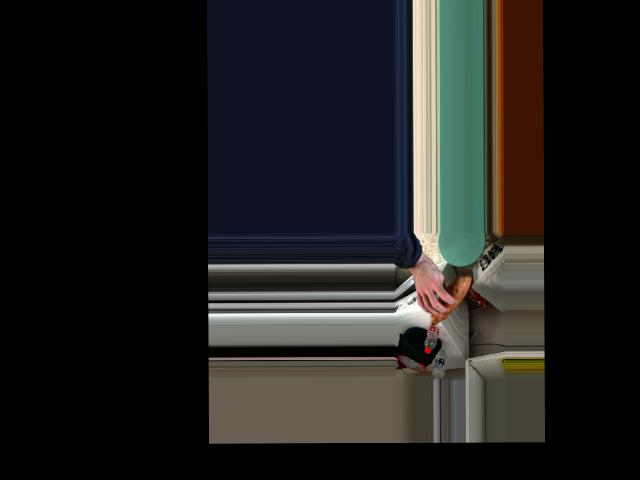sweet_potato: (419, 281, 469, 324)
